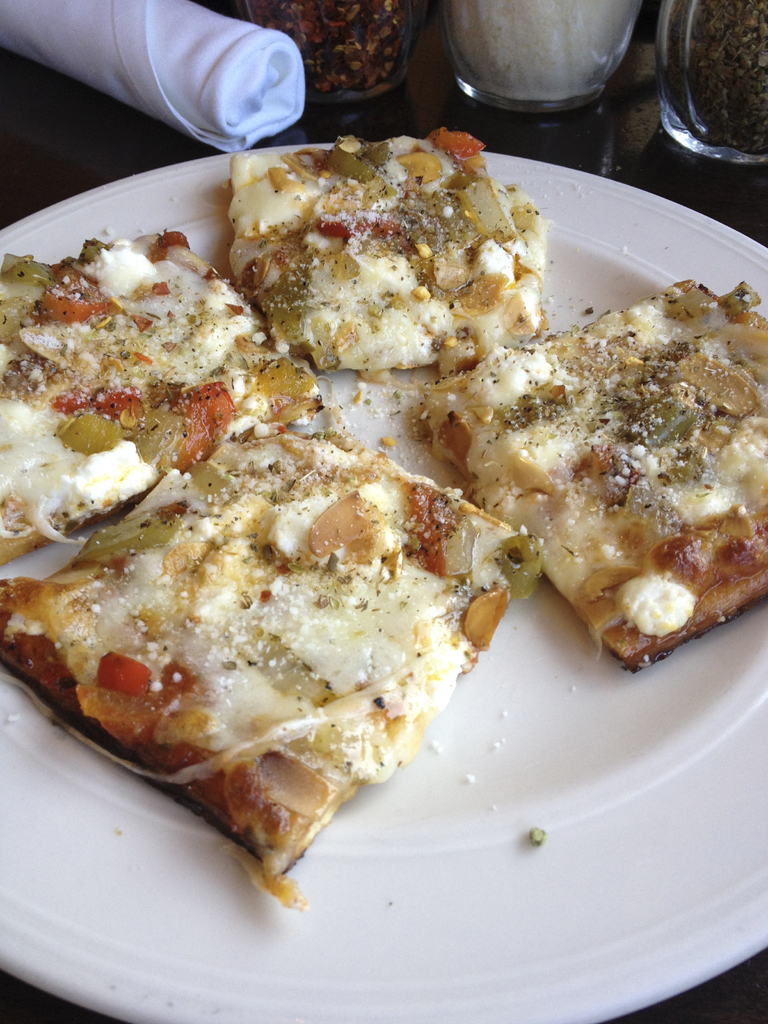Pizza: (0, 412, 553, 917), (391, 258, 767, 679), (0, 190, 345, 581), (221, 125, 548, 389)
